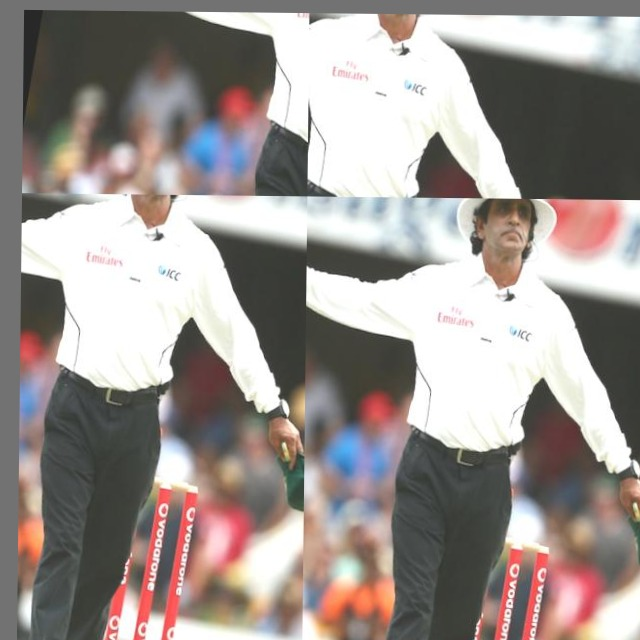No_Ball: (302, 196, 640, 640)
Out: (20, 193, 107, 369)
Wide: (307, 13, 455, 198), (40, 10, 206, 101)
